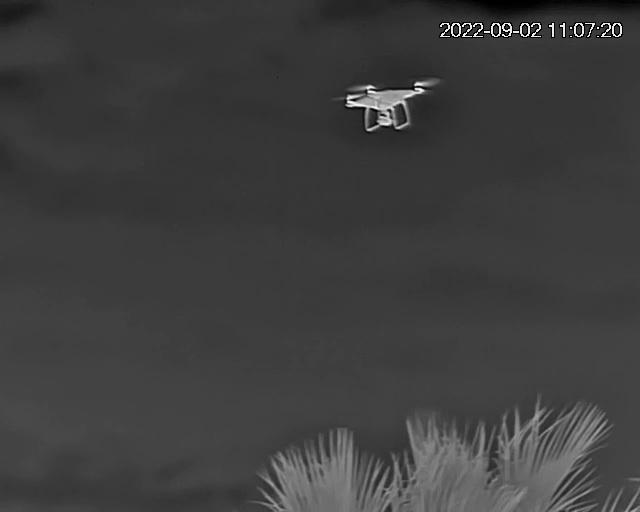DJI-Phantom: (340, 75, 442, 136)
